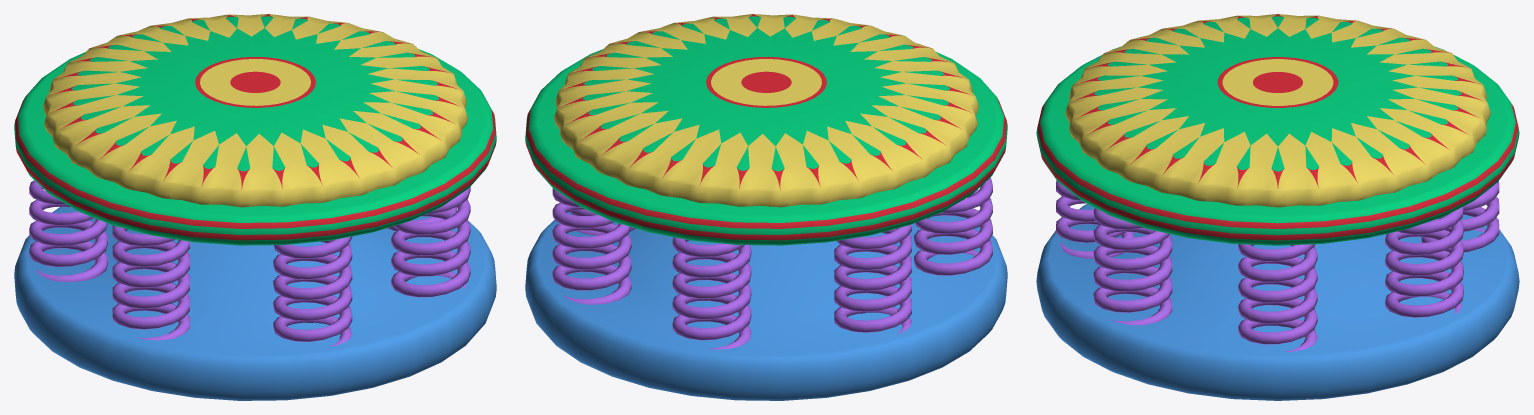
Rendered from trampoline (1).fbx.
3 renders of one model, left to right at view 1: azimuth 30°, elevation 25°; view 2: azimuth 150°, elevation 25°; view 3: azimuth 270°, elevation 25°, orthographic.
Parts seen in each view (by area): view 1: trampolineTop, trampolineBottom, trampolineCoils; view 2: trampolineTop, trampolineBottom, trampolineCoils; view 3: trampolineTop, trampolineBottom, trampolineCoils.
Part boxes in pixels (x1=…): trampolineTop: x1=14, y1=14, x2=496, y2=245; trampolineBottom: x1=14, y1=207, x2=496, y2=400; trampolineCoils: x1=29, y1=180, x2=470, y2=346; trampolineTop: x1=525, y1=14, x2=1007, y2=245; trampolineBottom: x1=525, y1=212, x2=1007, y2=400; trampolineCoils: x1=552, y1=177, x2=992, y2=349; trampolineTop: x1=1036, y1=14, x2=1519, y2=245; trampolineBottom: x1=1036, y1=204, x2=1519, y2=400; trampolineCoils: x1=1056, y1=180, x2=1499, y2=351.
Bounding box in the file's own units: 2.88 × 1.46 × 2.88.
